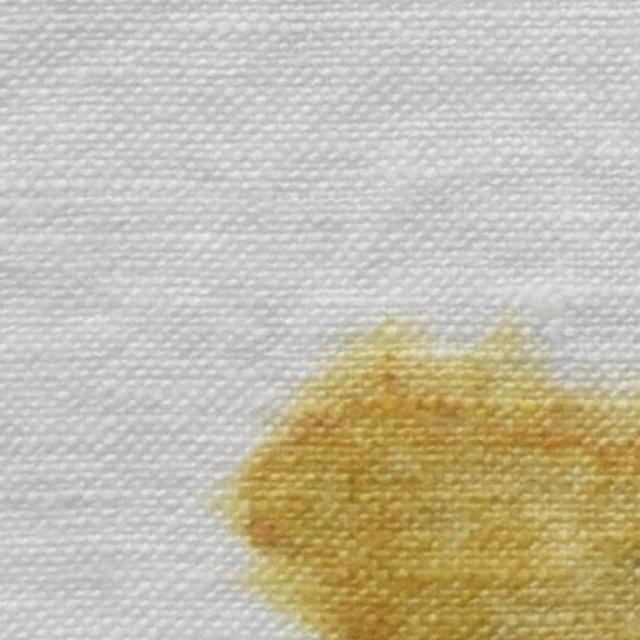Stain: (222, 319, 640, 640)
